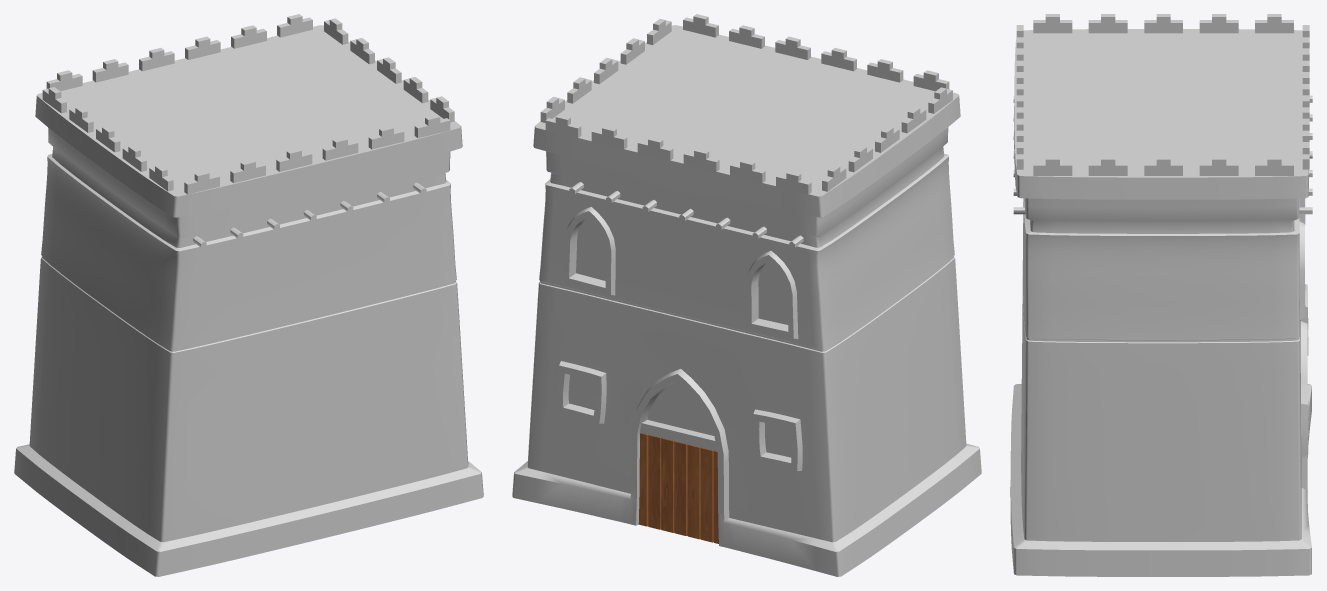
File: Najdi_Garrison_A01.fbx
The picture shows the model from 3 angles, left to right: view 1: azimuth 30°, elevation 25°; view 2: azimuth 150°, elevation 25°; view 3: azimuth 270°, elevation 25°; orthographic projection. The views are drawn at different scales.
Visible parts, largest first — view 1: Najdi_Garrison_A01; view 2: Najdi_Garrison_A01; view 3: Najdi_Garrison_A01.
Boxes of the visible parts, bbox=[...] form: Najdi_Garrison_A01: bbox=[14, 14, 483, 576]; Najdi_Garrison_A01: bbox=[512, 14, 981, 576]; Najdi_Garrison_A01: bbox=[1010, 14, 1312, 576].
Bounding box in the file's own units: 2232 × 1678 × 2486.
